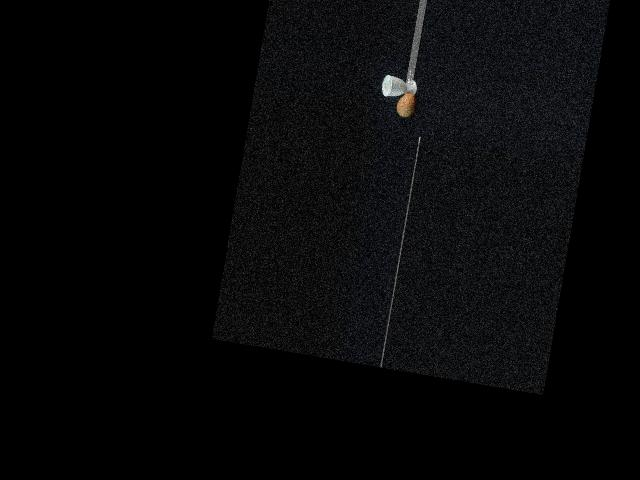egg: (395, 91, 416, 118)
